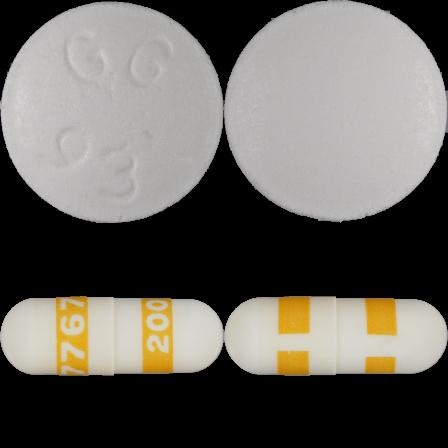50436-7601: (0, 0, 224, 224)
